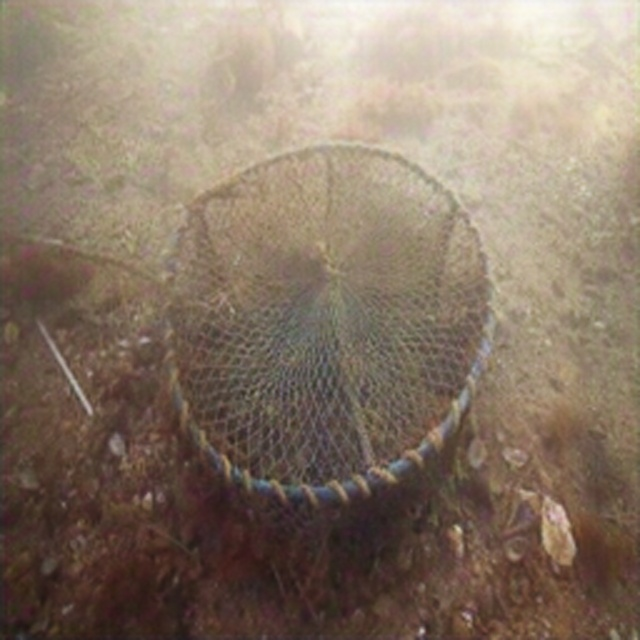mine: (158, 138, 499, 594)
